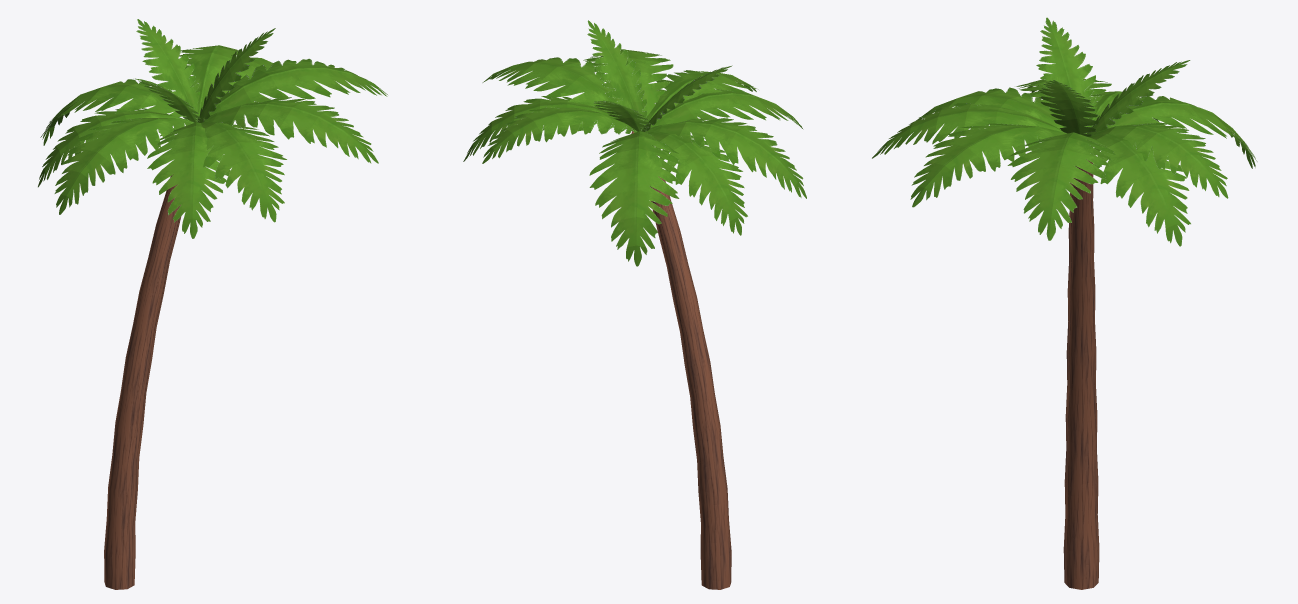
Rendered from palm_1.gltf.
3 renders of one model, left to right at view 1: azimuth 30°, elevation 25°; view 2: azimuth 150°, elevation 25°; view 3: azimuth 270°, elevation 25°, orthographic. The views are drawn at different scales.
Visible parts, largest first — view 1: palm_1; view 2: palm_1; view 3: palm_1.
Part boxes in pixels (left/top/right/bottom): palm_1: left=38, top=19, right=387, bottom=589; palm_1: left=463, top=20, right=806, bottom=589; palm_1: left=872, top=17, right=1257, bottom=589.
Size of the model in its own units: 5.46 by 7.86 by 5.18.
Materials: 2 (2 with a texture image).
